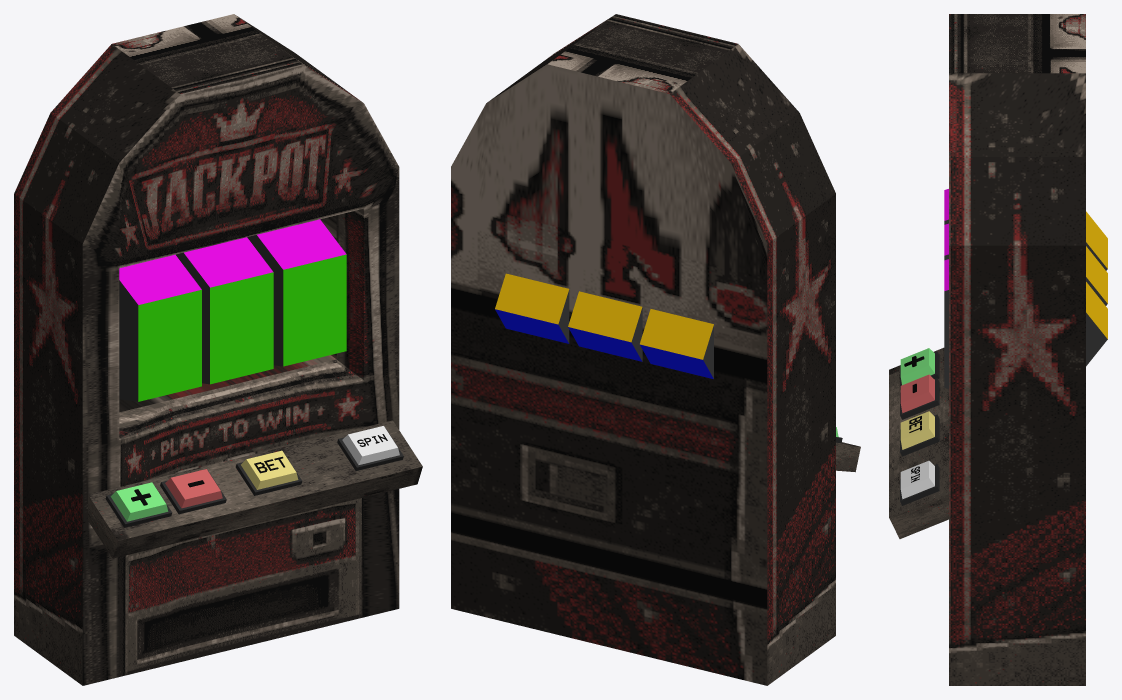
Rendered from slots.glb.
3 views of the same model, side by side, from view 1: azimuth 30°, elevation 25°; view 2: azimuth 150°, elevation 25°; view 3: azimuth 270°, elevation 25° (orthographic).
Parts seen in each view (by area): view 1: base, buttons, spinner1, spinner3, spinner2, verringern, spin, setzen, erhöhen; view 2: base, spinner3, spinner2, spinner1, buttons; view 3: base, buttons, spinner3, spin, verringern, setzen, erhöhen, spinner2, spinner1.
Boxes of the visible parts, x1=… form: base: x1=14, y1=14, x2=399, y2=685; buttons: x1=88, y1=420, x2=422, y2=558; spinner1: x1=119, y1=254, x2=201, y2=401; spinner3: x1=247, y1=219, x2=346, y2=366; spinner2: x1=176, y1=237, x2=273, y2=384; verringern: x1=160, y1=469, x2=226, y2=514; spin: x1=337, y1=426, x2=403, y2=470; setzen: x1=235, y1=450, x2=302, y2=495; erhöhen: x1=105, y1=482, x2=172, y2=527; base: x1=451, y1=14, x2=835, y2=685; spinner3: x1=495, y1=273, x2=569, y2=343; spinner2: x1=568, y1=291, x2=642, y2=361; spinner1: x1=639, y1=309, x2=713, y2=379; buttons: x1=836, y1=442, x2=860, y2=472; base: x1=949, y1=14, x2=1085, y2=685; buttons: x1=889, y1=347, x2=948, y2=538; spinner3: x1=944, y1=259, x2=1107, y2=388; spin: x1=900, y1=460, x2=939, y2=505; verringern: x1=900, y1=374, x2=939, y2=419; setzen: x1=900, y1=411, x2=939, y2=456; erhöhen: x1=900, y1=348, x2=939, y2=389; spinner2: x1=944, y1=223, x2=1107, y2=305; spinner1: x1=944, y1=189, x2=1107, y2=270.
Size of the model in its own units: 1.51 by 2.6 by 0.9098.
13 materials, 1 textured.
